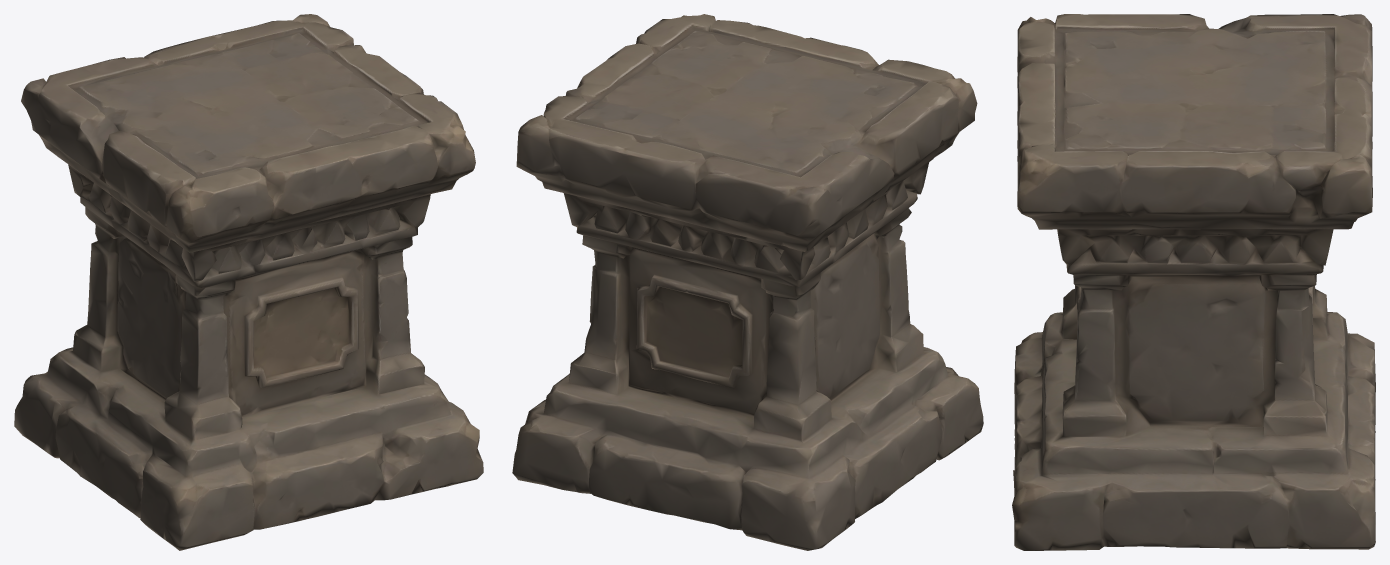
Rendered from hub_trophy_pedestal.glb.
3 renders of one model, left to right at view 1: azimuth 30°, elevation 25°; view 2: azimuth 150°, elevation 25°; view 3: azimuth 270°, elevation 25°, orthographic. The views are drawn at different scales.
Parts seen in each view (by area): view 1: tripo_node_1b6df0e2-a4e7-4fa0-a91b-e89a2bf3a954; view 2: tripo_node_1b6df0e2-a4e7-4fa0-a91b-e89a2bf3a954; view 3: tripo_node_1b6df0e2-a4e7-4fa0-a91b-e89a2bf3a954.
Part boxes in pixels (x1,y1,x2,y2): tripo_node_1b6df0e2-a4e7-4fa0-a91b-e89a2bf3a954: (14, 14, 483, 550); tripo_node_1b6df0e2-a4e7-4fa0-a91b-e89a2bf3a954: (512, 14, 983, 550); tripo_node_1b6df0e2-a4e7-4fa0-a91b-e89a2bf3a954: (1012, 14, 1375, 550).
Bounding box in the file's own units: 0.8993 × 1 × 0.8592.
1 material, 1 textured.
